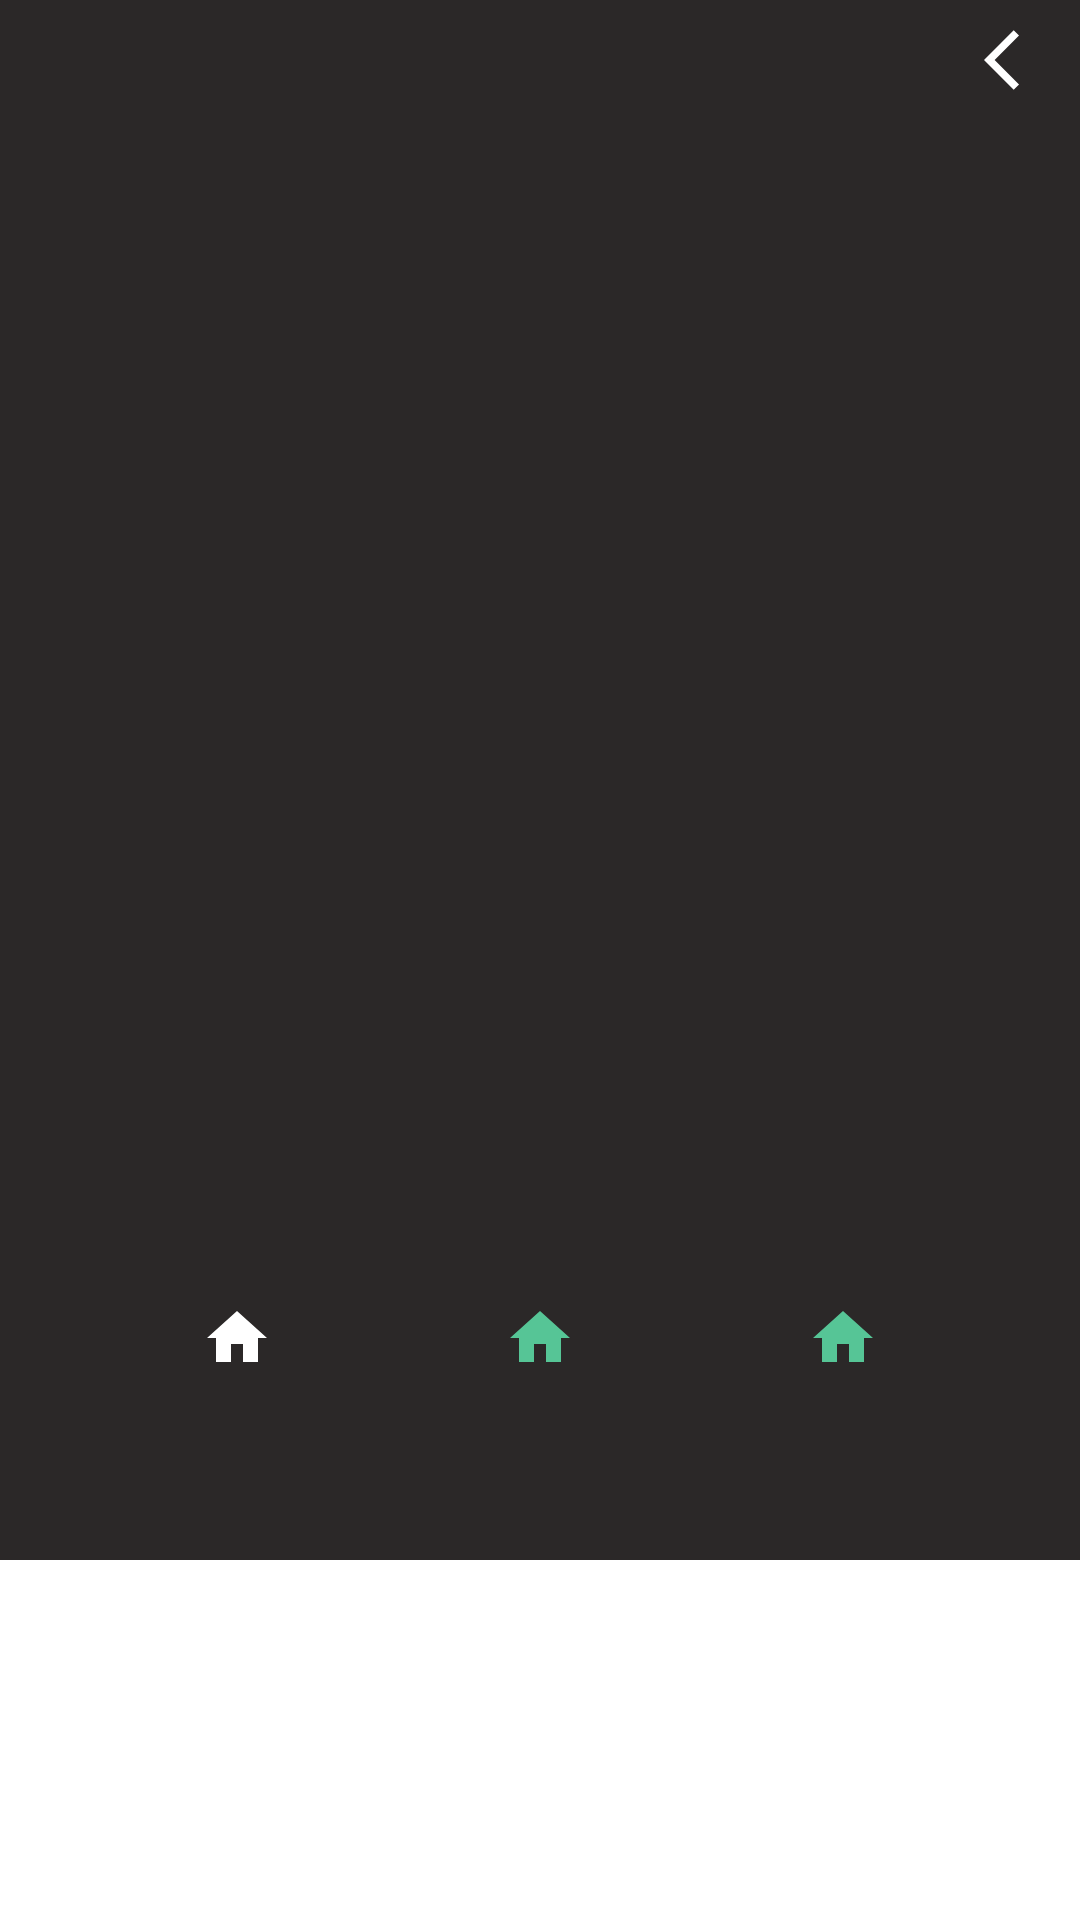

Named icons in this screenshot (1080px x 1920px) and their centers, (x,y):
arrow back: (1001,60)
home: (237,1336), (540,1336), (843,1336)
